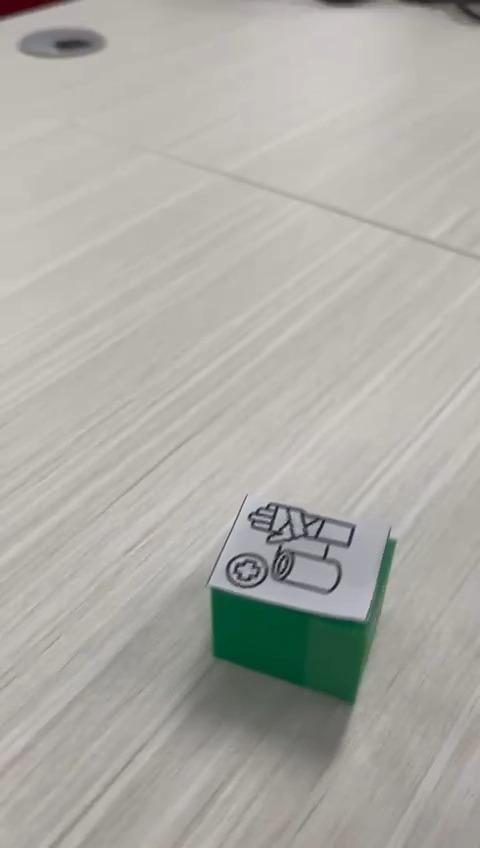Bandages: (205, 493, 397, 705)
